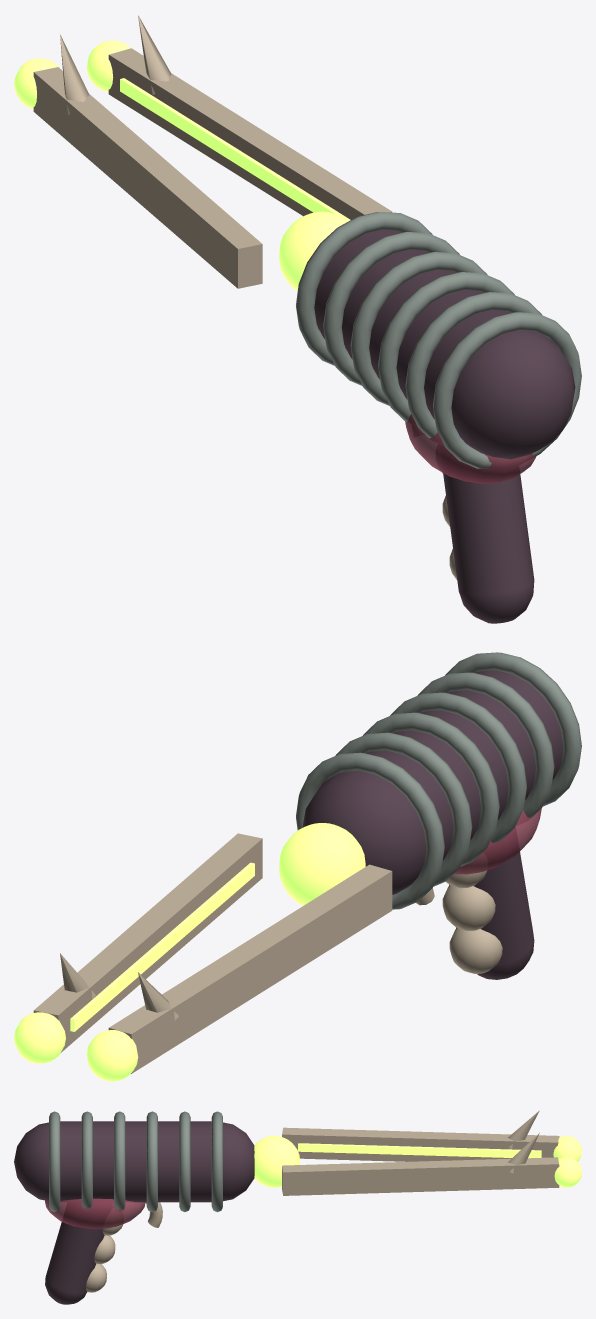
Rendered from grafted-brood-arc_caster.glb.
3 renders of one model, top to bottom at view 1: azimuth 30°, elevation 25°; view 2: azimuth 150°, elevation 25°; view 3: azimuth 270°, elevation 25°, orthographic. The views are drawn at different scales.
Visible parts, largest first — view 1: body_shell, prong_blade_l, prong_blade_r, grip_shaft, coil_wrap_6, coil_wrap_3, coil_wrap_1, coil_wrap_2, coil_wrap_4, coil_wrap_5, prong_nerve_r, charge_sac (+5 smaller); view 2: body_shell, prong_blade_l, prong_blade_r, coil_wrap_1, arc_core, grip_shaft, coil_wrap_3, coil_wrap_6, coil_wrap_2, coil_wrap_4, coil_wrap_5, prong_nerve_r (+7 smaller); view 3: body_shell, prong_blade_r, prong_blade_l, grip_shaft, prong_nerve_l, charge_sac, arc_core, coil_wrap_2, coil_wrap_1, coil_wrap_3, coil_wrap_6, coil_wrap_4 (+7 smaller).
Part boxes in pixels (x1,y1,x2,y2): body_shell: [314, 229, 575, 459]; prong_blade_l: [33, 67, 262, 288]; prong_blade_r: [108, 48, 392, 219]; grip_shaft: [443, 473, 534, 623]; coil_wrap_6: [433, 312, 581, 468]; coil_wrap_3: [350, 252, 487, 405]; coil_wrap_1: [296, 212, 432, 365]; coil_wrap_2: [323, 232, 459, 385]; coil_wrap_4: [378, 272, 514, 421]; coil_wrap_5: [405, 292, 541, 438]; prong_nerve_r: [120, 78, 350, 220]; charge_sac: [405, 414, 536, 483]; body_shell: [302, 670, 563, 894]; prong_blade_l: [108, 864, 392, 1073]; prong_blade_r: [33, 833, 262, 1052]; coil_wrap_1: [296, 752, 444, 909]; arc_core: [279, 823, 365, 905]; grip_shaft: [449, 851, 534, 979]; coil_wrap_3: [363, 712, 499, 866]; coil_wrap_6: [445, 652, 581, 806]; coil_wrap_2: [335, 732, 472, 886]; coil_wrap_4: [390, 692, 526, 842]; coil_wrap_5: [417, 672, 554, 818]; prong_nerve_r: [70, 862, 254, 1031]; body_shell: [14, 1121, 254, 1202]; prong_blade_r: [282, 1157, 559, 1195]; prong_blade_l: [282, 1127, 559, 1161]; grip_shaft: [45, 1222, 104, 1304]; prong_nerve_l: [298, 1143, 541, 1158]; charge_sac: [45, 1198, 145, 1229]; arc_core: [254, 1136, 299, 1187]; coil_wrap_2: [179, 1111, 190, 1211]; coil_wrap_1: [211, 1111, 222, 1212]; coil_wrap_3: [146, 1111, 157, 1212]; coil_wrap_6: [49, 1111, 60, 1212]; coil_wrap_4: [114, 1111, 125, 1210].
Bounding box in the file's own units: 0.13 × 0.2523 × 0.6979.
